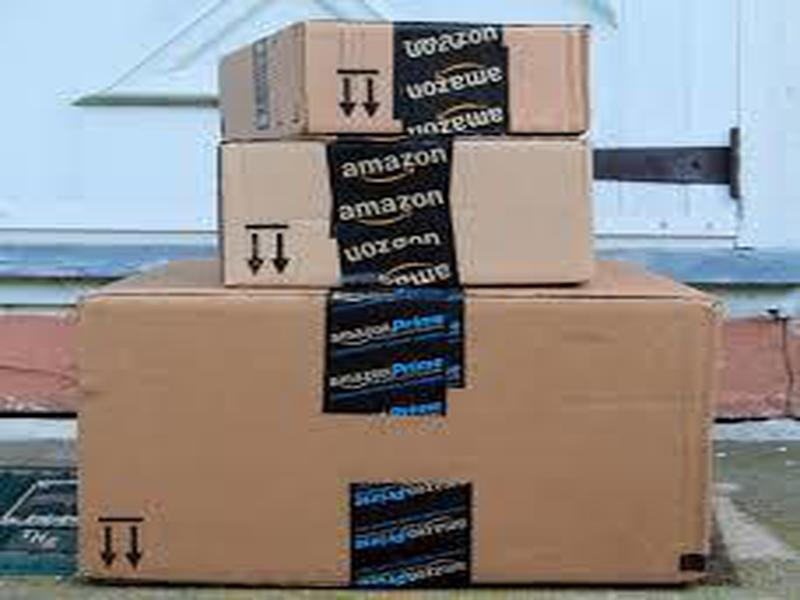package: (63, 279, 721, 582), (204, 134, 606, 291), (193, 11, 601, 140)
